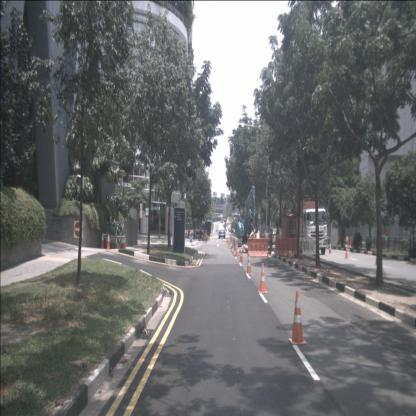barrier: (247, 238, 269, 256), (298, 237, 316, 258), (277, 238, 298, 256), (233, 237, 239, 256), (341, 236, 349, 246), (348, 237, 355, 248), (231, 238, 236, 252), (232, 238, 236, 254), (230, 237, 233, 251), (229, 236, 232, 249)
cone: (288, 290, 307, 346), (257, 262, 268, 292), (245, 254, 253, 275), (100, 230, 105, 249), (106, 233, 111, 249), (122, 233, 126, 250), (114, 233, 118, 250), (344, 245, 349, 258), (239, 247, 243, 263), (120, 234, 124, 249), (374, 253, 379, 265), (235, 242, 238, 256), (329, 243, 332, 254), (228, 238, 230, 248), (227, 236, 229, 244)
